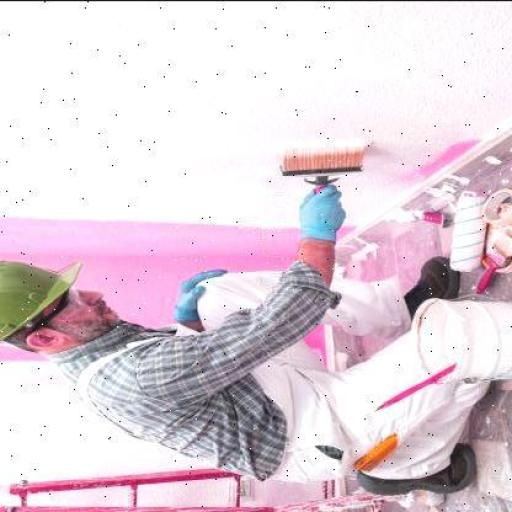safety_shoe: (353, 442, 478, 493), (407, 253, 459, 327)
